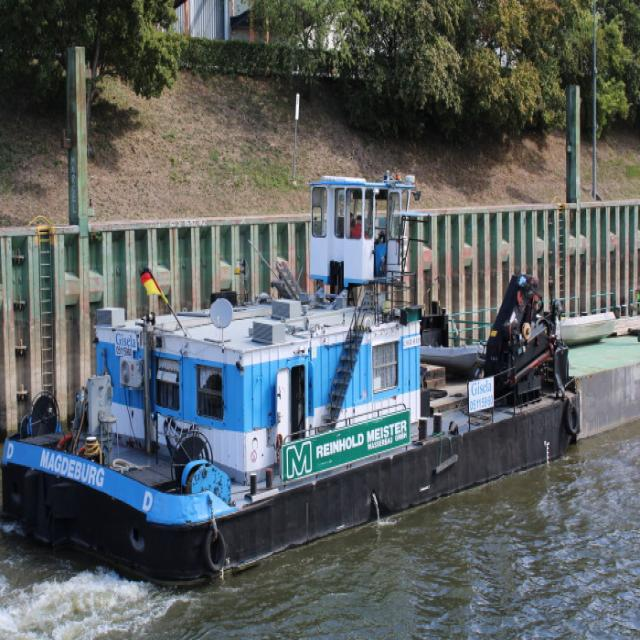tugboat: (1, 173, 590, 600)
